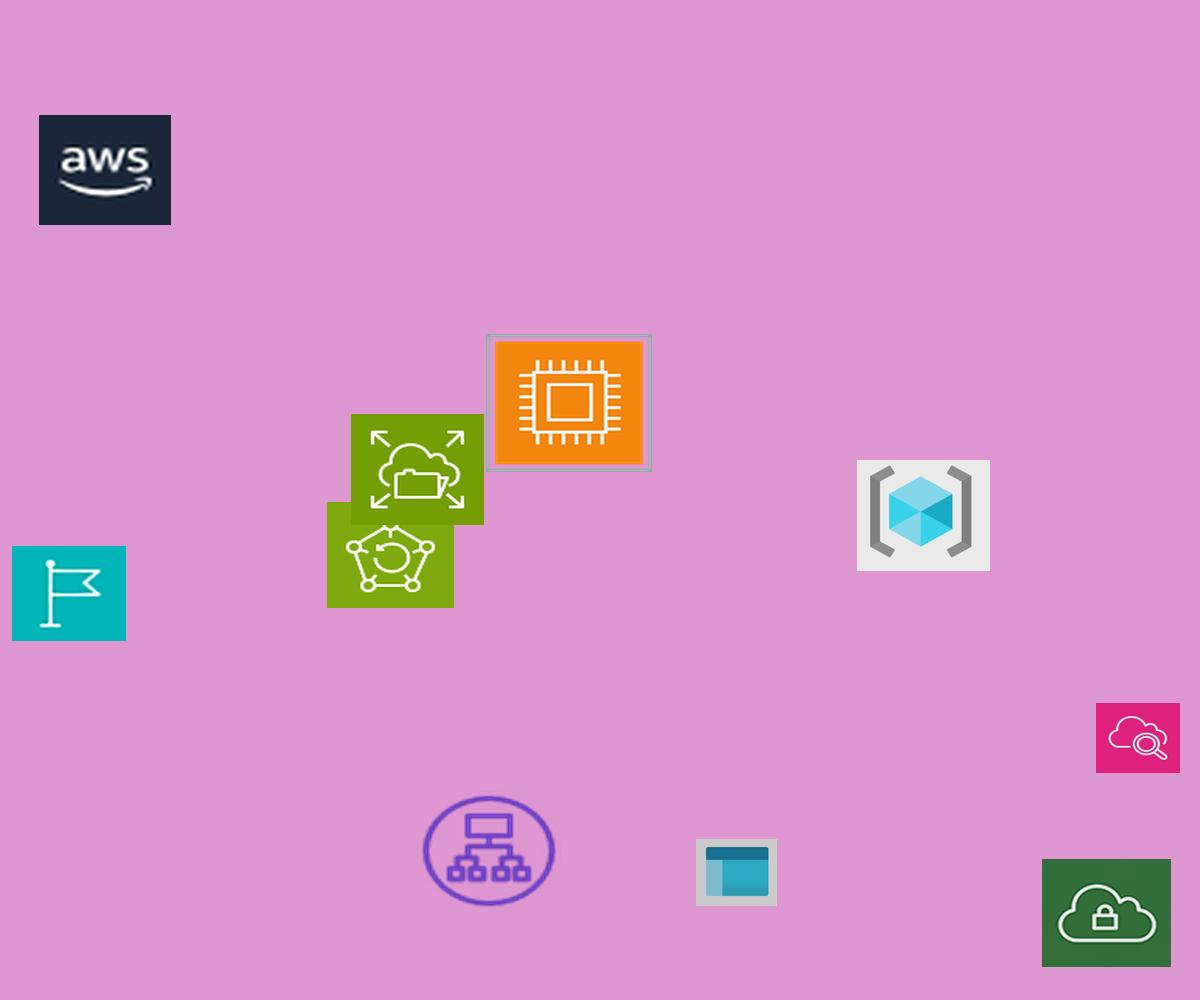AWS-Backup: (327, 502, 454, 608)
AWS-Category_Compute: (486, 334, 652, 472)
AWS-Cloud-logo: (39, 115, 171, 225)
AWS-CloudWatch: (1096, 703, 1180, 773)
AWS-EFS: (351, 414, 484, 525)
AWS-Private_vpc: (1042, 859, 1171, 967)
AWS-Region: (12, 546, 126, 641)
AWS-Res_Elastic-Load-Balancing_Application-Load-Balancer: (417, 791, 561, 911)
Azure_management-portal: (696, 839, 777, 906)
Azure_resource_group: (857, 460, 990, 571)
